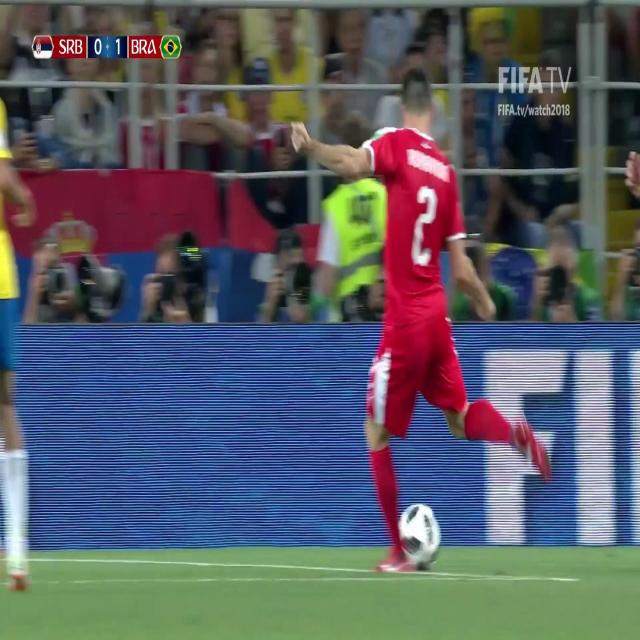ball: (394, 497, 451, 576)
player: (284, 56, 529, 578)
